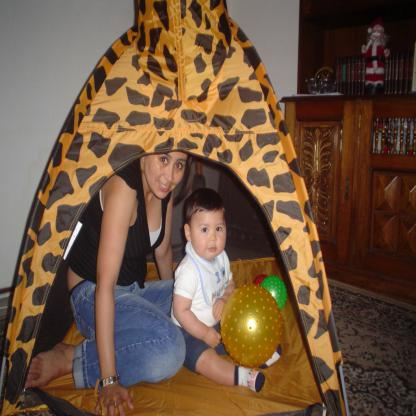Ball: (221, 282, 282, 366), (264, 276, 287, 307), (255, 275, 266, 287)
